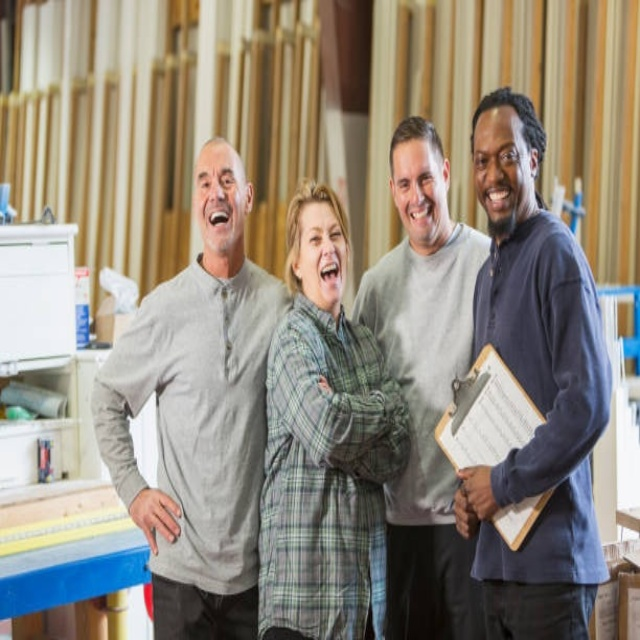Sin_gafas: (475, 136, 524, 171), (197, 160, 241, 195), (394, 160, 438, 195), (301, 221, 343, 245)
Sin_guantes: (132, 480, 186, 560), (455, 464, 500, 524)
Sin_mascara: (481, 182, 515, 216), (317, 254, 342, 298), (206, 202, 231, 238), (406, 204, 434, 234)
